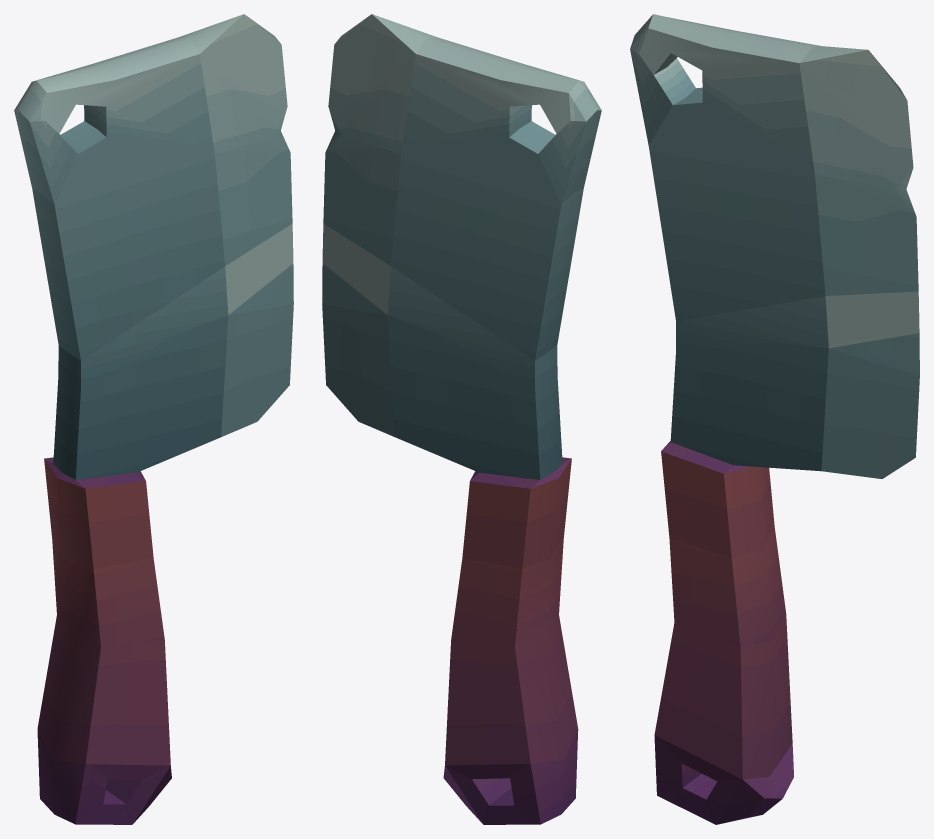
Rendered from Butcher_Knife.fbx.
The picture shows the model from 3 angles, left to right: view 1: azimuth 30°, elevation 25°; view 2: azimuth 150°, elevation 25°; view 3: azimuth 330°, elevation 25°; orthographic projection. The views are drawn at different scales.
Visible parts, largest first — view 1: pCube10; view 2: pCube10; view 3: pCube10.
Boxes of the visible parts, box(x1,y1,x2,y2) form: pCube10: box(14, 14, 293, 824); pCube10: box(322, 14, 601, 824); pCube10: box(630, 14, 919, 824).
Bounding box in the file's own units: 1.22 × 3.25 × 0.3668.
